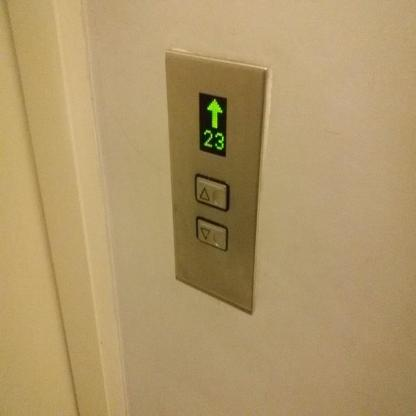down: (194, 214, 228, 253)
led: (196, 90, 228, 158)
up: (193, 170, 230, 212)
